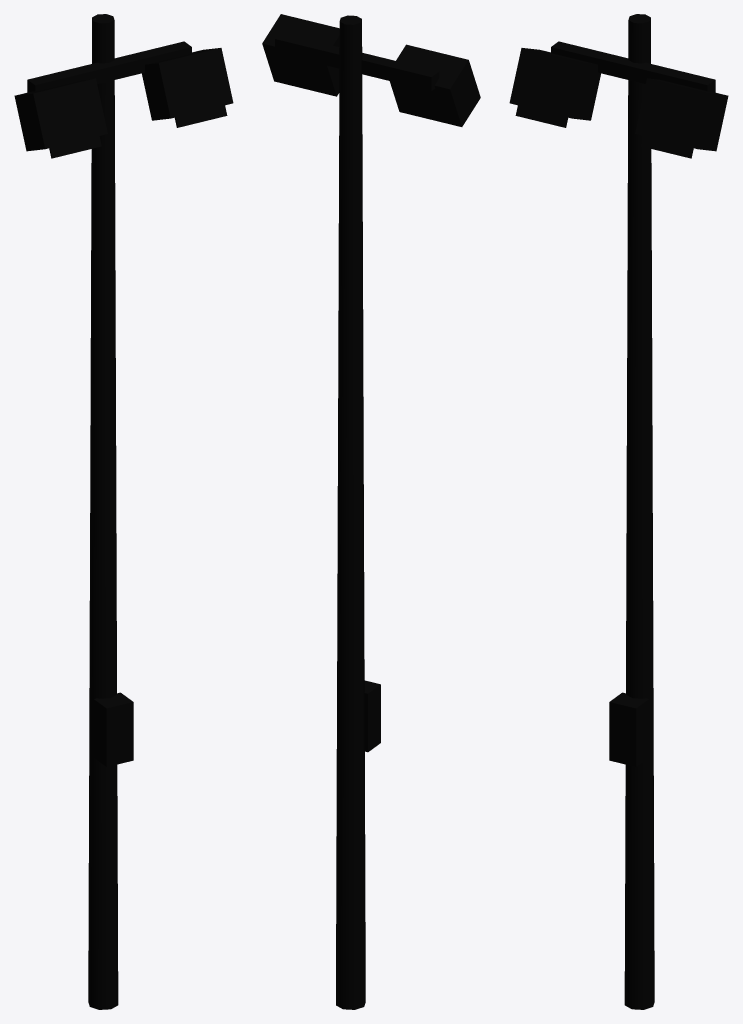
Rendered from SM_floodlight.fbx.
3 views of the same model, side by side, from view 1: azimuth 30°, elevation 25°; view 2: azimuth 150°, elevation 25°; view 3: azimuth 330°, elevation 25° (orthographic).
Parts seen in each view (by area): view 1: floodlight, floodlight_lamp; view 2: floodlight; view 3: floodlight, floodlight_lamp.
Part boxes in pixels (left/top/right/bottom): floodlight: left=14, top=14, right=233, bottom=1009; floodlight_lamp: left=49, top=105, right=227, bottom=158; floodlight: left=262, top=14, right=480, bottom=1009; floodlight: left=509, top=14, right=728, bottom=1009; floodlight_lamp: left=515, top=105, right=693, bottom=158.
Size of the model in its own units: 0.84 by 4.2 by 0.3433.
